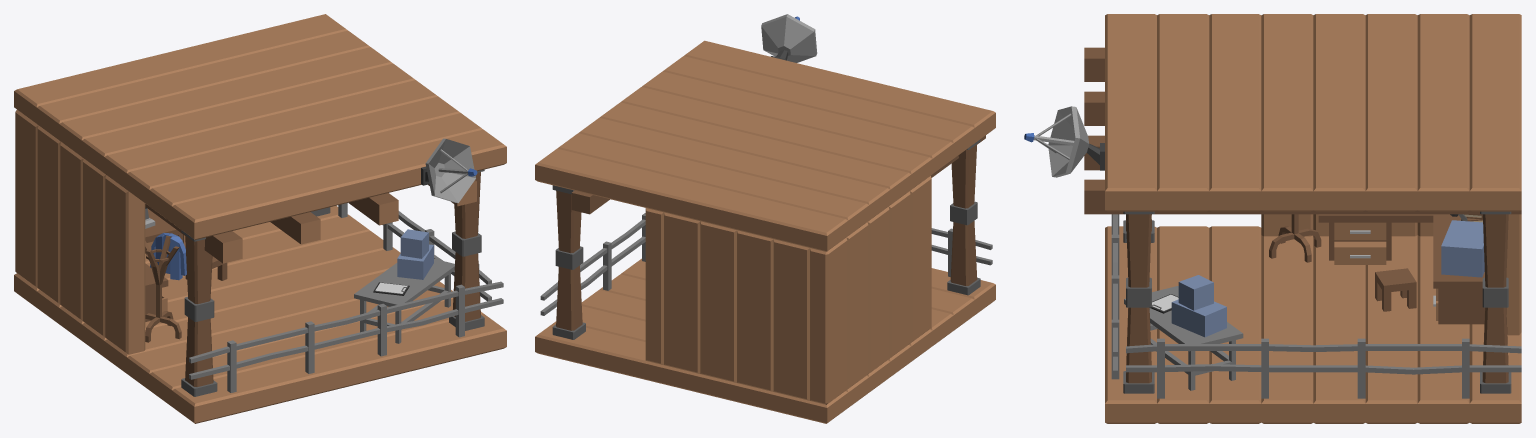
The model's file is RadioStation_Lvl_01_Corner.fbx.
3 renders of one model, left to right at view 1: azimuth 30°, elevation 25°; view 2: azimuth 150°, elevation 25°; view 3: azimuth 270°, elevation 25°, orthographic. The views are drawn at different scales.
Visible parts, largest first — view 1: RadioStation_Lvl_01_Corner; view 2: RadioStation_Lvl_01_Corner; view 3: RadioStation_Lvl_01_Corner.
Boxes of the visible parts, x1=… form: RadioStation_Lvl_01_Corner: x1=14, y1=14, x2=506, y2=423; RadioStation_Lvl_01_Corner: x1=535, y1=14, x2=995, y2=423; RadioStation_Lvl_01_Corner: x1=1024, y1=14, x2=1521, y2=423.
Size of the model in its own units: 8 by 5.85 by 9.55.
